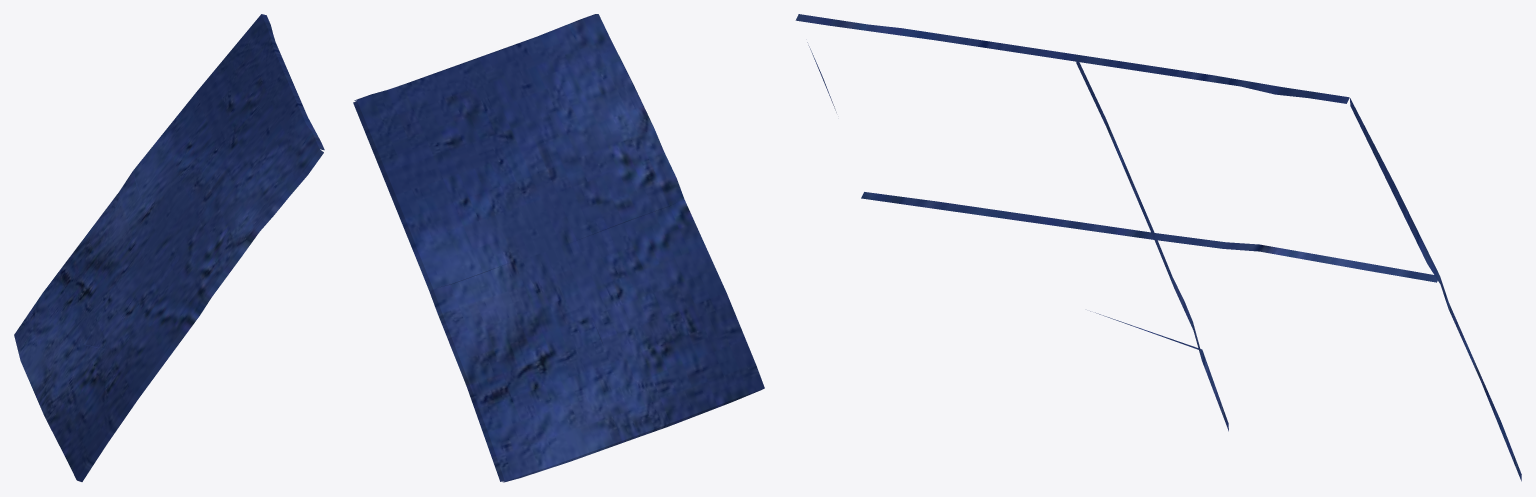
The picture shows the model from 3 angles, left to right: view 1: azimuth 30°, elevation 25°; view 2: azimuth 150°, elevation 25°; view 3: azimuth 270°, elevation 25°; orthographic projection. The views are drawn at different scales.
Size of the model in its own units: 525917 by 510243 by 602725.
Materials: 1 (1 with a texture image).
